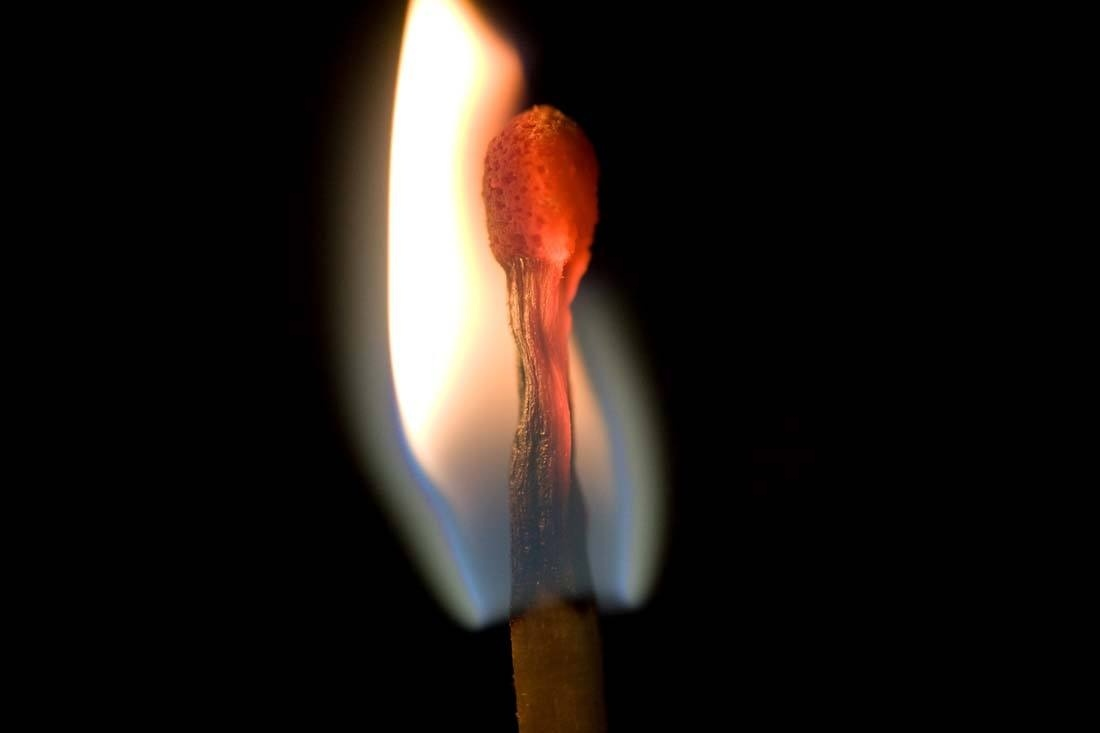fire: (382, 0, 634, 593)
